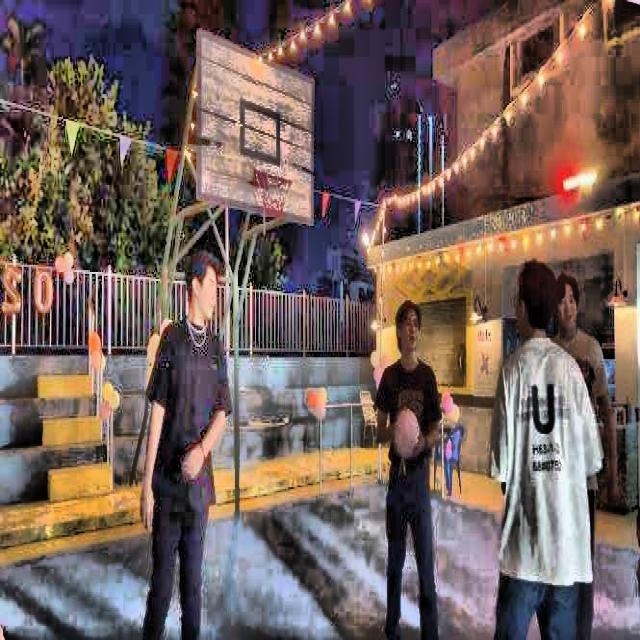board: (392, 407, 420, 459)
